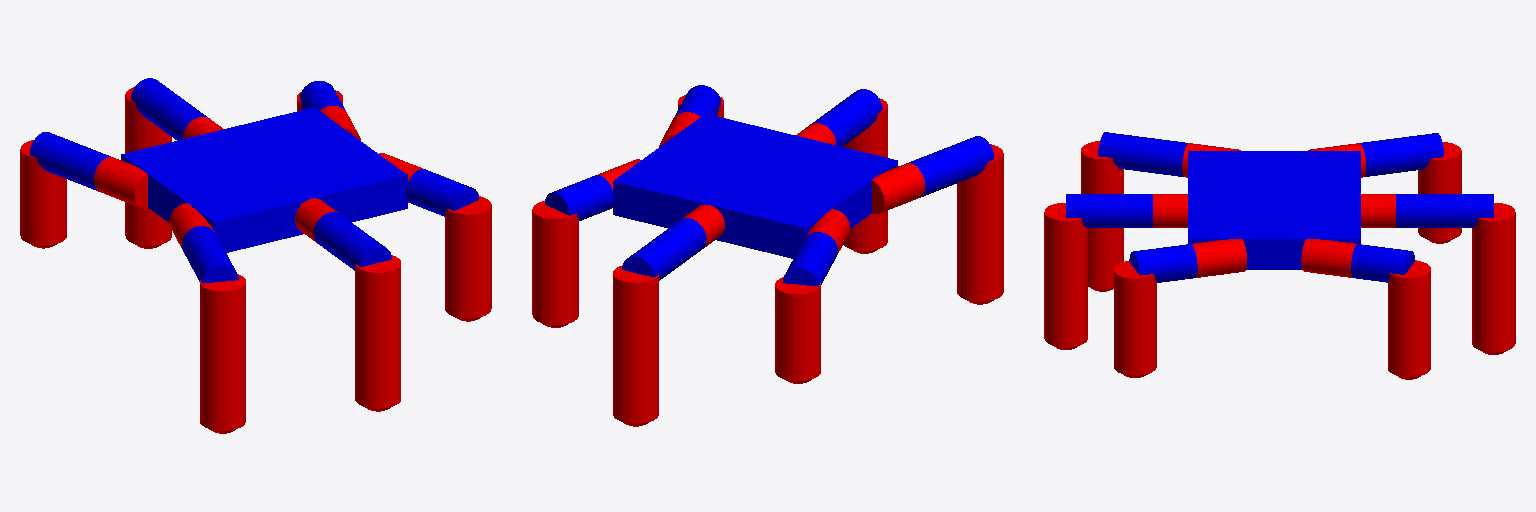
--- Facts derived from the render (not from the file) ---
3 views of the same robot in one strip: view 1: azimuth 30°, elevation 25°; view 2: azimuth 150°, elevation 25°; view 3: azimuth 270°, elevation 25° (orthographic).
Model pexod with 19 links and 18 joints (18 revolute), rooted at base_link, posed all joints at 0.
Links seen in each view (by area): view 1: base_link, leg_5_3, leg_4_3, leg_3_3, leg_0_3, leg_1_3, leg_4_2, leg_0_2, leg_1_2, leg_3_2, leg_5_2, leg_0_1 (+3 smaller); view 2: base_link, leg_1_3, leg_5_3, leg_2_3, leg_0_3, leg_1_2, leg_5_2, leg_4_3, leg_4_2, leg_2_2, leg_0_2, leg_5_1 (+3 smaller); view 3: base_link, leg_1_3, leg_4_3, leg_2_3, leg_3_3, leg_5_3, leg_1_2, leg_4_2, leg_5_2, leg_0_2, leg_0_3, leg_3_2 (+5 smaller).
Boxes of the visible links, bbox=[...] form: base_link: bbox=[121, 107, 407, 252]; leg_5_3: bbox=[200, 274, 245, 433]; leg_4_3: bbox=[355, 255, 400, 411]; leg_3_3: bbox=[445, 196, 491, 321]; leg_0_3: bbox=[20, 140, 66, 248]; leg_1_3: bbox=[125, 87, 171, 248]; leg_4_2: bbox=[313, 212, 391, 270]; leg_0_2: bbox=[30, 132, 110, 191]; leg_1_2: bbox=[131, 78, 209, 140]; leg_3_2: bbox=[406, 169, 478, 216]; leg_5_2: bbox=[182, 226, 238, 283]; leg_0_1: bbox=[94, 157, 147, 207]; base_link: bbox=[613, 114, 897, 258]; leg_1_3: bbox=[613, 265, 658, 426]; leg_5_3: bbox=[957, 144, 1003, 304]; leg_2_3: bbox=[532, 201, 578, 327]; leg_0_3: bbox=[775, 277, 820, 383]; leg_1_2: bbox=[622, 218, 706, 280]; leg_5_2: bbox=[909, 136, 993, 196]; leg_4_3: bbox=[843, 98, 887, 253]; leg_4_2: bbox=[810, 89, 882, 146]; leg_2_2: bbox=[545, 175, 613, 220]; leg_0_2: bbox=[782, 232, 837, 286]; leg_5_1: bbox=[872, 163, 924, 213]; base_link: bbox=[1188, 151, 1360, 269]; leg_1_3: bbox=[1472, 203, 1515, 354]; leg_4_3: bbox=[1044, 203, 1087, 349]; leg_2_3: bbox=[1388, 260, 1430, 379]; leg_3_3: bbox=[1114, 261, 1156, 377]; leg_5_3: bbox=[1081, 141, 1123, 291]; leg_1_2: bbox=[1396, 194, 1493, 227]; leg_4_2: bbox=[1066, 194, 1152, 227]; leg_5_2: bbox=[1098, 132, 1187, 176]; leg_0_2: bbox=[1360, 133, 1443, 176]; leg_0_3: bbox=[1418, 142, 1461, 243]; leg_3_2: bbox=[1129, 244, 1197, 282].
Bounding box of the posed robot: 0.376 × 0.5435 × 0.2002 m (x, y, z).
Geometry: primitives only (box / cylinder / sphere), no mesh files.

URDF robot description (pexod):
<?xml version="1.0" ?>
<!-- =================================================================================== -->
<!-- |    This document was autogenerated by xacro from pexod.xacro                    | -->
<!-- |    EDITING THIS FILE BY HAND IS NOT RECOMMENDED                                 | -->
<!-- =================================================================================== -->
<robot name="pexod" xmlns:xacro="http://www.ros.org/wiki/xacro">
  <!-- <xacro:include filename="$(find pexod_description)/urdf/pexod_control.xacro" /> -->
  <!-- MATERIALS -->
  <material name="Blue">
    <color rgba="0 0 1 1"/>
  </material>
  <material name="Red">
    <color rgba="1 0 0 1"/>
  </material>
  <material name="Green">
    <color rgba="0 1 0 1"/>
  </material>
  <material name="Yellow">
    <color rgba="1 1 0 1"/>
  </material>
  <material name="LightGrey">
    <color rgba="0.6 0.6 0.6 1.0"/>
  </material>
  <!-- END OF MATERIALS -->
  <!-- XACRO MACROS FOR VISUALS AND COLLISIONS -->
  <!-- END OF XACRO MACROS -->
  <!-- TORSO -->
  <link name="base_link">
    <visual>
      <origin rpy="0 0 0" xyz="0 0 0"/>
      <geometry>
        <box size="0.24 0.2 0.04"/>
      </geometry>
      <material name="Blue"/>
    </visual>
    <collision>
      <origin rpy="0 0 0" xyz="0 0 0"/>
      <geometry>
        <box size="0.24 0.2 0.04"/>
      </geometry>
    </collision>
    <inertial>
      <!-- CENTER OF MASS -->
      <origin rpy="0 0 0" xyz="0 0 0"/>
      <mass value="1.031"/>
      <!-- box inertia: 1/12*m(y^2+z^2), ... -->
      <inertia ixx="0.00357413333333" ixy="0" ixz="0" iyy="0.00508626666667" iyz="0" izz="0.00838546666667"/>
    </inertial>
  </link>
  <!-- XACRO MACRO FOR LEGS LINKS/JOINTS -->
  <!-- END OF LEG LINKS/JOINTS -->
  <joint name="body_leg_2" type="revolute">
    <parent link="base_link"/>
    <child link="leg_2_1"/>
    <limit effort="30.0" lower="-1.57079632679" upper="1.57079632679" velocity="7.0"/>
    <origin rpy="0 0 -0.3" xyz="0.11 0.04 0"/>
    <!-- <xacro:if value="${index == 5 or index == 4 or index == 3}">
                <axis xyz="0 0 1"/>
            </xacro:if>
            <xacro:if value="${index == 2 or index == 1 or index == 0}"> -->
    <axis xyz="0 0 1"/>
    <!-- </xacro:if> -->
    <dynamics damping="0.0"/>
  </joint>
  <link name="leg_2_1">
    <visual>
      <origin rpy="1.57079632679 0 0" xyz="0.01 0.03 0"/>
      <geometry>
        <cylinder length="0.06" radius="0.02"/>
      </geometry>
      <material name="Red"/>
    </visual>
    <collision>
      <origin rpy="1.57079632679 0 0" xyz="0.01 0.03 0"/>
      <geometry>
        <box size="0.02 0.02 0.06"/>
      </geometry>
    </collision>
    <inertial>
      <!-- CENTER OF MASS -->
      <origin rpy="1.57079632679 0 0" xyz="0.01 0.03 0"/>
      <mass value="0.02"/>
      <!-- box inertia: 1/12*m(y^2+z^2), ... -->
      <inertia ixx="6.66666666667e-06" ixy="0" ixz="0" iyy="6.66666666667e-06" iyz="0" izz="1.33333333333e-06"/>
    </inertial>
  </link>
  <joint name="leg_2_1_2" type="revolute">
    <parent link="leg_2_1"/>
    <child link="leg_2_2"/>
    <limit effort="30.0" lower="-0.78539816339" upper="0.78539816339" velocity="7.0"/>
    <origin rpy="0 0 0" xyz="0 0.06 0"/>
    <axis xyz="1 0 0"/>
    <dynamics damping="0.0"/>
  </joint>
  <link name="leg_2_2">
    <visual>
      <origin rpy="1.57079632679 0 0" xyz="0.01 0.0325207815961 0"/>
      <geometry>
        <cylinder length="0.0650415631922" radius="0.02"/>
      </geometry>
      <material name="Blue"/>
    </visual>
    <collision>
      <origin rpy="1.57079632679 0 0" xyz="0.01 0.0325207815961 0"/>
      <geometry>
        <box size="0.02 0.02 0.0650415631922"/>
      </geometry>
    </collision>
    <inertial>
      <!-- CENTER OF MASS -->
      <origin rpy="1.57079632679 0 0" xyz="0.01 0.0325207815961 0"/>
      <mass value="0.184"/>
      <!-- box inertia: 1/12*m(y^2+z^2), ... -->
      <inertia ixx="7.09995424514e-05" ixy="0" ixz="0" iyy="7.09995424514e-05" iyz="0" izz="1.22666666667e-05"/>
    </inertial>
  </link>
  <joint name="leg_2_2_3" type="revolute">
    <parent link="leg_2_2"/>
    <child link="leg_2_3"/>
    <limit effort="30.0" lower="-0.78539816339" upper="0.78539816339" velocity="7.0"/>
    <origin rpy="-1.57079632679 0 0" xyz="0 0.0650415631922 0"/>
    <axis xyz="-1 0 0"/>
    <dynamics damping="0.0"/>
  </joint>
  <link name="leg_2_3">
    <visual>
      <origin rpy="1.57079632679 0 0" xyz="0.0125 0.063092380047 0"/>
      <geometry>
        <cylinder length="0.126184760094" radius="0.025"/>
      </geometry>
      <material name="Red"/>
    </visual>
    <visual>
      <origin rpy="1.57079632679 0 0" xyz="0.0125 0.113684760094 0"/>
      <geometry>
        <sphere radius="0.025"/>
      </geometry>
      <material name="Red"/>
    </visual>
    <collision>
      <origin rpy="1.57079632679 0 0" xyz="0.0125 0.063092380047 0"/>
      <geometry>
        <box size="0.025 0.025 0.126184760094"/>
      </geometry>
    </collision>
    <collision>
      <origin rpy="1.57079632679 0 0" xyz="0.0125 0.113684760094 0"/>
      <geometry>
        <sphere radius="0.025"/>
      </geometry>
      <material name="Red"/>
    </collision>
    <inertial>
      <!-- CENTER OF MASS -->
      <origin rpy="1.57079632679 0 0" xyz="0.0125 0.063092380047 0"/>
      <mass value="0.04"/>
      <!-- box inertia: 1/12*m(y^2+z^2), ... -->
      <inertia ixx="5.51586455999e-05" ixy="0" ixz="0" iyy="5.51586455999e-05" iyz="0" izz="4.16666666667e-06"/>
    </inertial>
  </link>
  <joint name="body_leg_3" type="revolute">
    <parent link="base_link"/>
    <child link="leg_3_1"/>
    <limit effort="30.0" lower="-1.57079632679" upper="1.57079632679" velocity="7.0"/>
    <origin rpy="0 0 0.3" xyz="0.11 -0.04 0"/>
    <!-- <xacro:if value="${index == 5 or index == 4 or index == 3}">
                <axis xyz="0 0 1"/>
            </xacro:if>
            <xacro:if value="${index == 2 or index == 1 or index == 0}"> -->
    <axis xyz="0 0 1"/>
    <!-- </xacro:if> -->
    <dynamics damping="0.0"/>
  </joint>
  <link name="leg_3_1">
    <visual>
      <origin rpy="1.57079632679 0 0" xyz="0.01 -0.03 0"/>
      <geometry>
        <cylinder length="0.06" radius="0.02"/>
      </geometry>
      <material name="Red"/>
    </visual>
    <collision>
      <origin rpy="1.57079632679 0 0" xyz="0.01 -0.03 0"/>
      <geometry>
        <box size="0.02 0.02 0.06"/>
      </geometry>
    </collision>
    <inertial>
      <!-- CENTER OF MASS -->
      <origin rpy="1.57079632679 0 0" xyz="0.01 -0.03 0"/>
      <mass value="0.02"/>
      <!-- box inertia: 1/12*m(y^2+z^2), ... -->
      <inertia ixx="6.66666666667e-06" ixy="0" ixz="0" iyy="6.66666666667e-06" iyz="0" izz="1.33333333333e-06"/>
    </inertial>
  </link>
  <joint name="leg_3_1_2" type="revolute">
    <parent link="leg_3_1"/>
    <child link="leg_3_2"/>
    <limit effort="30.0" lower="-0.78539816339" upper="0.78539816339" velocity="7.0"/>
    <origin rpy="0 0 0" xyz="0 -0.06 0"/>
    <axis xyz="-1 0 0"/>
    <dynamics damping="0.0"/>
  </joint>
  <link name="leg_3_2">
    <visual>
      <origin rpy="1.57079632679 0 0" xyz="0.01 -0.0350354683203 0"/>
      <geometry>
        <cylinder length="0.0700709366405" radius="0.02"/>
      </geometry>
      <material name="Blue"/>
    </visual>
    <collision>
      <origin rpy="1.57079632679 0 0" xyz="0.01 -0.0350354683203 0"/>
      <geometry>
        <box size="0.02 0.02 0.0700709366405"/>
      </geometry>
    </collision>
    <inertial>
      <!-- CENTER OF MASS -->
      <origin rpy="1.57079632679 0 0" xyz="0.01 -0.0350354683203 0"/>
      <mass value="0.184"/>
      <!-- box inertia: 1/12*m(y^2+z^2), ... -->
      <inertia ixx="8.14190211457e-05" ixy="0" ixz="0" iyy="8.14190211457e-05" iyz="0" izz="1.22666666667e-05"/>
    </inertial>
  </link>
  <joint name="leg_3_2_3" type="revolute">
    <parent link="leg_3_2"/>
    <child link="leg_3_3"/>
    <limit effort="30.0" lower="-0.78539816339" upper="0.78539816339" velocity="7.0"/>
    <origin rpy="1.57079632679 0 0" xyz="0 -0.0700709366405 0"/>
    <axis xyz="1 0 0"/>
    <dynamics damping="0.0"/>
  </joint>
  <link name="leg_3_3">
    <visual>
      <origin rpy="1.57079632679 0 0" xyz="0.0125 -0.061801208673 0"/>
      <geometry>
        <cylinder length="0.123602417346" radius="0.025"/>
      </geometry>
      <material name="Red"/>
    </visual>
    <visual>
      <origin rpy="1.57079632679 0 0" xyz="0.0125 -0.111102417346 0"/>
      <geometry>
        <sphere radius="0.025"/>
      </geometry>
      <material name="Red"/>
    </visual>
    <collision>
      <origin rpy="1.57079632679 0 0" xyz="0.0125 -0.061801208673 0"/>
      <geometry>
        <box size="0.025 0.025 0.123602417346"/>
      </geometry>
    </collision>
    <collision>
      <origin rpy="1.57079632679 0 0" xyz="0.0125 -0.111102417346 0"/>
      <geometry>
        <sphere radius="0.025"/>
      </geometry>
      <material name="Red"/>
    </collision>
    <inertial>
      <!-- CENTER OF MASS -->
      <origin rpy="1.57079632679 0 0" xyz="0.0125 -0.061801208673 0"/>
      <mass value="0.04"/>
      <!-- box inertia: 1/12*m(y^2+z^2), ... -->
      <inertia ixx="5.30085252459e-05" ixy="0" ixz="0" iyy="5.30085252459e-05" iyz="0" izz="4.16666666667e-06"/>
    </inertial>
  </link>
  <joint name="body_leg_0" type="revolute">
    <parent link="base_link"/>
    <child link="leg_0_1"/>
    <limit effort="30.0" lower="-1.57079632679" upper="1.57079632679" velocity="7.0"/>
    <origin rpy="0 0 0.3" xyz="-0.13 0.04 0"/>
    <!-- <xacro:if value="${index == 5 or index == 4 or index == 3}">
                <axis xyz="0 0 1"/>
            </xacro:if>
            <xacro:if value="${index == 2 or index == 1 or index == 0}"> -->
    <axis xyz="0 0 1"/>
    <!-- </xacro:if> -->
    <dynamics damping="0.0"/>
  </joint>
  <link name="leg_0_1">
    <visual>
      <origin rpy="1.57079632679 0 0" xyz="0.01 0.03 0"/>
      <geometry>
        <cylinder length="0.06" radius="0.02"/>
      </geometry>
      <material name="Red"/>
    </visual>
    <collision>
      <origin rpy="1.57079632679 0 0" xyz="0.01 0.03 0"/>
      <geometry>
        <box size="0.02 0.02 0.06"/>
      </geometry>
    </collision>
    <inertial>
      <!-- CENTER OF MASS -->
      <origin rpy="1.57079632679 0 0" xyz="0.01 0.03 0"/>
      <mass value="0.02"/>
      <!-- box inertia: 1/12*m(y^2+z^2), ... -->
      <inertia ixx="6.66666666667e-06" ixy="0" ixz="0" iyy="6.66666666667e-06" iyz="0" izz="1.33333333333e-06"/>
    </inertial>
  </link>
  <joint name="leg_0_1_2" type="revolute">
    <parent link="leg_0_1"/>
    <child link="leg_0_2"/>
    <limit effort="30.0" lower="-0.78539816339" upper="0.78539816339" velocity="7.0"/>
    <origin rpy="0 0 0" xyz="0 0.06 0"/>
    <axis xyz="1 0 0"/>
    <dynamics damping="0.0"/>
  </joint>
  <link name="leg_0_2">
    <visual>
      <origin rpy="1.57079632679 0 0" xyz="0.01 0.0471702280895 0"/>
      <geometry>
        <cylinder length="0.094340456179" radius="0.02"/>
      </geometry>
      <material name="Blue"/>
    </visual>
    <collision>
      <origin rpy="1.57079632679 0 0" xyz="0.01 0.0471702280895 0"/>
      <geometry>
        <box size="0.02 0.02 0.094340456179"/>
      </geometry>
    </collision>
    <inertial>
      <!-- CENTER OF MASS -->
      <origin rpy="1.57079632679 0 0" xyz="0.01 0.0471702280895 0"/>
      <mass value="0.184"/>
      <!-- box inertia: 1/12*m(y^2+z^2), ... -->
      <inertia ixx="0.000142601865638" ixy="0" ixz="0" iyy="0.000142601865638" iyz="0" izz="1.22666666667e-05"/>
    </inertial>
  </link>
  <joint name="leg_0_2_3" type="revolute">
    <parent link="leg_0_2"/>
    <child link="leg_0_3"/>
    <limit effort="30.0" lower="-0.78539816339" upper="0.78539816339" velocity="7.0"/>
    <origin rpy="-1.57079632679 0 0" xyz="0 0.094340456179 0"/>
    <axis xyz="-1 0 0"/>
    <dynamics damping="0.0"/>
  </joint>
  <link name="leg_0_3">
    <visual>
      <origin rpy="1.57079632679 0 0" xyz="0.0125 0.051680465624 0"/>
      <geometry>
        <cylinder length="0.103360931248" radius="0.025"/>
      </geometry>
      <material name="Red"/>
    </visual>
    <visual>
      <origin rpy="1.57079632679 0 0" xyz="0.0125 0.090860931248 0"/>
      <geometry>
        <sphere radius="0.025"/>
      </geometry>
      <material name="Red"/>
    </visual>
    <collision>
      <origin rpy="1.57079632679 0 0" xyz="0.0125 0.051680465624 0"/>
      <geometry>
        <box size="0.025 0.025 0.103360931248"/>
      </geometry>
    </collision>
    <collision>
      <origin rpy="1.57079632679 0 0" xyz="0.0125 0.090860931248 0"/>
      <geometry>
        <sphere radius="0.025"/>
      </geometry>
      <material name="Red"/>
    </collision>
    <inertial>
      <!-- CENTER OF MASS -->
      <origin rpy="1.57079632679 0 0" xyz="0.0125 0.051680465624 0"/>
      <mass value="0.04"/>
      <!-- box inertia: 1/12*m(y^2+z^2), ... -->
      <inertia ixx="3.76949403615e-05" ixy="0" ixz="0" iyy="3.76949403615e-05" iyz="0" izz="4.16666666667e-06"/>
    </inertial>
  </link>
  <joint name="body_leg_5" type="revolute">
    <parent link="base_link"/>
    <child link="leg_5_1"/>
    <limit effort="30.0" lower="-1.57079632679" upper="1.57079632679" velocity="7.0"/>
    <origin rpy="0 0 -0.3" xyz="-0.13 -0.04 0"/>
    <!-- <xacro:if value="${index == 5 or index == 4 or index == 3}">
                <axis xyz="0 0 1"/>
            </xacro:if>
            <xacro:if value="${index == 2 or index == 1 or index == 0}"> -->
    <axis xyz="0 0 1"/>
    <!-- </xacro:if> -->
    <dynamics damping="0.0"/>
  </joint>
  <link name="leg_5_1">
    <visual>
      <origin rpy="1.57079632679 0 0" xyz="0.01 -0.03 0"/>
      <geometry>
        <cylinder length="0.06" radius="0.02"/>
      </geometry>
      <material name="Red"/>
    </visual>
    <collision>
      <origin rpy="1.57079632679 0 0" xyz="0.01 -0.03 0"/>
      <geometry>
        <box size="0.02 0.02 0.06"/>
      </geometry>
    </collision>
    <inertial>
      <!-- CENTER OF MASS -->
      <origin rpy="1.57079632679 0 0" xyz="0.01 -0.03 0"/>
      <mass value="0.02"/>
      <!-- box inertia: 1/12*m(y^2+z^2), ... -->
      <inertia ixx="6.66666666667e-06" ixy="0" ixz="0" iyy="6.66666666667e-06" iyz="0" izz="1.33333333333e-06"/>
    </inertial>
  </link>
  <joint name="leg_5_1_2" type="revolute">
    <parent link="leg_5_1"/>
    <child link="leg_5_2"/>
    <limit effort="30.0" lower="-0.78539816339" upper="0.78539816339" velocity="7.0"/>
    <origin rpy="0 0 0" xyz="0 -0.06 0"/>
    <axis xyz="-1 0 0"/>
    <dynamics damping="0.0"/>
  </joint>
  <link name="leg_5_2">
    <visual>
      <origin rpy="1.57079632679 0 0" xyz="0.01 -0.050808094846 0"/>
      <geometry>
        <cylinder length="0.101616189692" radius="0.02"/>
      </geometry>
      <material name="Blue"/>
    </visual>
    <collision>
      <origin rpy="1.57079632679 0 0" xyz="0.01 -0.050808094846 0"/>
      <geometry>
        <box size="0.02 0.02 0.101616189692"/>
      </geometry>
    </collision>
    <inertial>
      <!-- CENTER OF MASS -->
      <origin rpy="1.57079632679 0 0" xyz="0.01 -0.050808094846 0"/>
      <mass value="0.184"/>
      <!-- box inertia: 1/12*m(y^2+z^2), ... -->
      <inertia ixx="0.000164463033449" ixy="0" ixz="0" iyy="0.000164463033449" iyz="0" izz="1.22666666667e-05"/>
    </inertial>
  </link>
  <joint name="leg_5_2_3" type="revolute">
    <parent link="leg_5_2"/>
    <child link="leg_5_3"/>
    <limit effort="30.0" lower="-0.78539816339" upper="0.78539816339" velocity="7.0"/>
    <origin rpy="1.57079632679 0 0" xyz="0 -0.101616189692 0"/>
    <axis xyz="1 0 0"/>
    <dynamics damping="0.0"/>
  </joint>
  <link name="leg_5_3">
    <visual>
      <origin rpy="1.57079632679 0 0" xyz="0.0125 -0.0827538482405 0"/>
      <geometry>
        <cylinder length="0.165507696481" radius="0.025"/>
      </geometry>
      <material name="Red"/>
    </visual>
    <visual>
      <origin rpy="1.57079632679 0 0" xyz="0.0125 -0.153007696481 0"/>
      <geometry>
        <sphere radius="0.025"/>
      </geometry>
      <material name="Red"/>
    </visual>
    <collision>
      <origin rpy="1.57079632679 0 0" xyz="0.0125 -0.0827538482405 0"/>
      <geometry>
        <box size="0.025 0.025 0.165507696481"/>
      </geometry>
    </collision>
    <collision>
      <origin rpy="1.57079632679 0 0" xyz="0.0125 -0.153007696481 0"/>
      <geometry>
        <sphere radius="0.025"/>
      </geometry>
      <material name="Red"/>
    </collision>
    <inertial>
      <!-- CENTER OF MASS -->
      <origin rpy="1.57079632679 0 0" xyz="0.0125 -0.0827538482405 0"/>
      <mass value="0.04"/>
      <!-- box inertia: 1/12*m(y^2+z^2), ... -->
      <inertia ixx="9.33926586482e-05" ixy="0" ixz="0" iyy="9.33926586482e-05" iyz="0" izz="4.16666666667e-06"/>
    </inertial>
  </link>
  <joint name="body_leg_1" type="revolute">
    <parent link="base_link"/>
    <child link="leg_1_1"/>
    <limit effort="30.0" lower="-1.57079632679" upper="1.57079632679" velocity="7.0"/>
    <origin rpy="0 0 0" xyz="-0.01 0.08 0"/>
    <!-- <xacro:if value="${index == 5 or index == 4 or index == 3}">
                <axis xyz="0 0 1"/>
            </xacro:if>
            <xacro:if value="${index == 2 or index == 1 or index == 0}"> -->
    <axis xyz="0 0 1"/>
    <!-- </xacro:if> -->
    <dynamics damping="0.0"/>
  </joint>
  <link name="leg_1_1">
    <visual>
      <origin rpy="1.57079632679 0 0" xyz="0.01 0.03 0"/>
      <geometry>
        <cylinder length="0.06" radius="0.02"/>
      </geometry>
      <material name="Red"/>
    </visual>
    <collision>
      <origin rpy="1.57079632679 0 0" xyz="0.01 0.03 0"/>
      <geometry>
        <box size="0.02 0.02 0.06"/>
      </geometry>
    </collision>
    <inertial>
      <!-- CENTER OF MASS -->
      <origin rpy="1.57079632679 0 0" xyz="0.01 0.03 0"/>
      <mass value="0.02"/>
      <!-- box inertia: 1/12*m(y^2+z^2), ... -->
      <inertia ixx="6.66666666667e-06" ixy="0" ixz="0" iyy="6.66666666667e-06" iyz="0" izz="1.33333333333e-06"/>
    </inertial>
  </link>
  <joint name="leg_1_1_2" type="revolute">
    <parent link="leg_1_1"/>
    <child link="leg_1_2"/>
    <limit effort="30.0" lower="-0.78539816339" upper="0.78539816339" velocity="7.0"/>
    <origin rpy="0 0 0" xyz="0 0.06 0"/>
    <axis xyz="1 0 0"/>
    <dynamics damping="0.0"/>
  </joint>
  <link name="leg_1_2">
    <visual>
      <origin rpy="1.57079632679 0 0" xyz="0.01 0.0566479329475 0"/>
      <geometry>
        <cylinder length="0.113295865895" radius="0.02"/>
      </geometry>
      <material name="Blue"/>
    </visual>
    <collision>
      <origin rpy="1.57079632679 0 0" xyz="0.01 0.0566479329475 0"/>
      <geometry>
        <box size="0.02 0.02 0.113295865895"/>
      </geometry>
    </collision>
    <inertial>
      <!-- CENTER OF MASS -->
      <origin rpy="1.57079632679 0 0" xyz="0.01 0.0566479329475 0"/>
      <mass value="0.184"/>
      <!-- box inertia: 1/12*m(y^2+z^2), ... -->
      <inertia ixx="0.000202951282843" ixy="0" ixz="0" iyy="0.000202951282843" iyz="0" izz="1.22666666667e-05"/>
    </inertial>
  </link>
  <joint name="leg_1_2_3" type="revolute">
    <parent link="leg_1_2"/>
    <child link="leg_1_3"/>
    <limit effort="30.0" lower="-0.78539816339" upper="0.78539816339" velocity="7.0"/>
    <origin rpy="-1.57079632679 0 0" xyz="0 0.113295865895 0"/>
    <axis xyz="-1 0 0"/>
    <dynamics damping="0.0"/>
  </joint>
  <link name="leg_1_3">
    <visual>
      <origin rpy="1.57079632679 0 0" xyz="0.0125 0.0838573614225 0"/>
      <geometry>
        <cylinder length="0.167714722845" radius="0.025"/>
      </geometry>
      <material name="Red"/>
    </visual>
    <visual>
      <origin rpy="1.57079632679 0 0" xyz="0.0125 0.155214722845 0"/>
      <geometry>
        <sphere radius="0.025"/>
      </geometry>
      <material name="Red"/>
    </visual>
    <collision>
      <origin rpy="1.57079632679 0 0" xyz="0.0125 0.0838573614225 0"/>
      <geometry>
        <box size="0.025 0.025 0.167714722845"/>
      </geometry>
    </collision>
    <collision>
      <origin rpy="1.57079632679 0 0" xyz="0.0125 0.155214722845 0"/>
      <geometry>
        <sphere radius="0.025"/>
      </geometry>
      <material name="Red"/>
    </collision>
    <inertial>
      <!-- CENTER OF MASS -->
      <origin rpy="1.57079632679 0 0" xyz="0.0125 0.0838573614225 0"/>
      <mass value="0.04"/>
      <!-- box inertia: 1/12*m(y^2+z^2), ... -->
      <inertia ixx="9.58440941966e-05" ixy="0" ixz="0" iyy="9.58440941966e-05" iyz="0" izz="4.16666666667e-06"/>
    </inertial>
  </link>
  <joint name="body_leg_4" type="revolute">
    <parent link="base_link"/>
    <child link="leg_4_1"/>
    <limit effort="30.0" lower="-1.57079632679" upper="1.57079632679" velocity="7.0"/>
    <origin rpy="0 0 0" xyz="-0.01 -0.08 0"/>
    <!-- <xacro:if value="${index == 5 or index == 4 or index == 3}">
                <axis xyz="0 0 1"/>
            </xacro:if>
            <xacro:if value="${index == 2 or index == 1 or index == 0}"> -->
    <axis xyz="0 0 1"/>
    <!-- </xacro:if> -->
    <dynamics damping="0.0"/>
  </joint>
  <link name="leg_4_1">
    <visual>
      <origin rpy="1.57079632679 0 0" xyz="0.01 -0.03 0"/>
      <geometry>
        <cylinder length="0.06" radius="0.02"/>
      </geometry>
      <material name="Red"/>
    </visual>
    <collision>
      <origin rpy="1.57079632679 0 0" xyz="0.01 -0.03 0"/>
      <geometry>
        <box size="0.02 0.02 0.06"/>
      </geometry>
    </collision>
    <inertial>
      <!-- CENTER OF MASS -->
      <origin rpy="1.57079632679 0 0" xyz="0.01 -0.03 0"/>
      <mass value="0.02"/>
      <!-- box inertia: 1/12*m(y^2+z^2), ... -->
      <inertia ixx="6.66666666667e-06" ixy="0" ixz="0" iyy="6.66666666667e-06" iyz="0" izz="1.33333333333e-06"/>
    </inertial>
  </link>
  <joint name="leg_4_1_2" type="revolute">
    <parent link="leg_4_1"/>
    <child link="leg_4_2"/>
    <limit effort="30.0" lower="-0.78539816339" upper="0.78539816339" velocity="7.0"/>
    <origin rpy="0 0 0" xyz="0 -0.06 0"/>
    <axis xyz="-1 0 0"/>
    <dynamics damping="0.0"/>
  </joint>
  <link name="leg_4_2">
    <visual>
      <origin rpy="1.57079632679 0 0" xyz="0.01 -0.0501095087595 0"/>
      <geometry>
        <cylinder length="0.100219017519" radius="0.02"/>
      </geometry>
      <material name="Blue"/>
    </visual>
    <collision>
      <origin rpy="1.57079632679 0 0" xyz="0.01 -0.0501095087595 0"/>
      <geometry>
        <box size="0.02 0.02 0.100219017519"/>
      </geometry>
    </collision>
    <inertial>
      <!-- CENTER OF MASS -->
      <origin rpy="1.57079632679 0 0" xyz="0.01 -0.0501095087595 0"/>
      <mass value="0.184"/>
      <!-- box inertia: 1/12*m(y^2+z^2), ... -->
      <inertia ixx="0.000160139055911" ixy="0" ixz="0" iyy="0.000160139055911" iyz="0" izz="1.22666666667e-05"/>
    </inertial>
  </link>
  <joint name="leg_4_2_3" type="revolute">
    <parent link="leg_4_2"/>
    <child link="leg_4_3"/>
    <limit effort="30.0" lower="-0.78539816339" upper="0.78539816339" velocity="7.0"/>
    <origin rpy="1.57079632679 0 0" xyz="0 -0.100219017519 0"/>
    <axis xyz="1 0 0"/>
    <dynamics damping="0.0"/>
  </joint>
  <link name="leg_4_3">
    <visual>
      <origin rpy="1.57079632679 0 0" xyz="0.0125 -0.080692810994 0"/>
      <geometry>
        <cylinder length="0.161385621988" radius="0.025"/>
      </geometry>
      <material name="Red"/>
    </visual>
    <visual>
      <origin rpy="1.57079632679 0 0" xyz="0.0125 -0.148885621988 0"/>
      <geometry>
        <sphere radius="0.025"/>
      </geometry>
      <material name="Red"/>
    </visual>
    <collision>
      <origin rpy="1.57079632679 0 0" xyz="0.0125 -0.080692810994 0"/>
      <geometry>
        <box size="0.025 0.025 0.161385621988"/>
      </geometry>
    </collision>
    <collision>
      <origin rpy="1.57079632679 0 0" xyz="0.0125 -0.148885621988 0"/>
      <geometry>
        <sphere radius="0.025"/>
      </geometry>
      <material name="Red"/>
    </collision>
    <inertial>
      <!-- CENTER OF MASS -->
      <origin rpy="1.57079632679 0 0" xyz="0.0125 -0.080692810994 0"/>
      <mass value="0.04"/>
      <!-- box inertia: 1/12*m(y^2+z^2), ... -->
      <inertia ixx="8.89010632815e-05" ixy="0" ixz="0" iyy="8.89010632815e-05" iyz="0" izz="4.16666666667e-06"/>
    </inertial>
  </link>
  <!-- END OF LEG LINKS/JOINTS -->
</robot>
